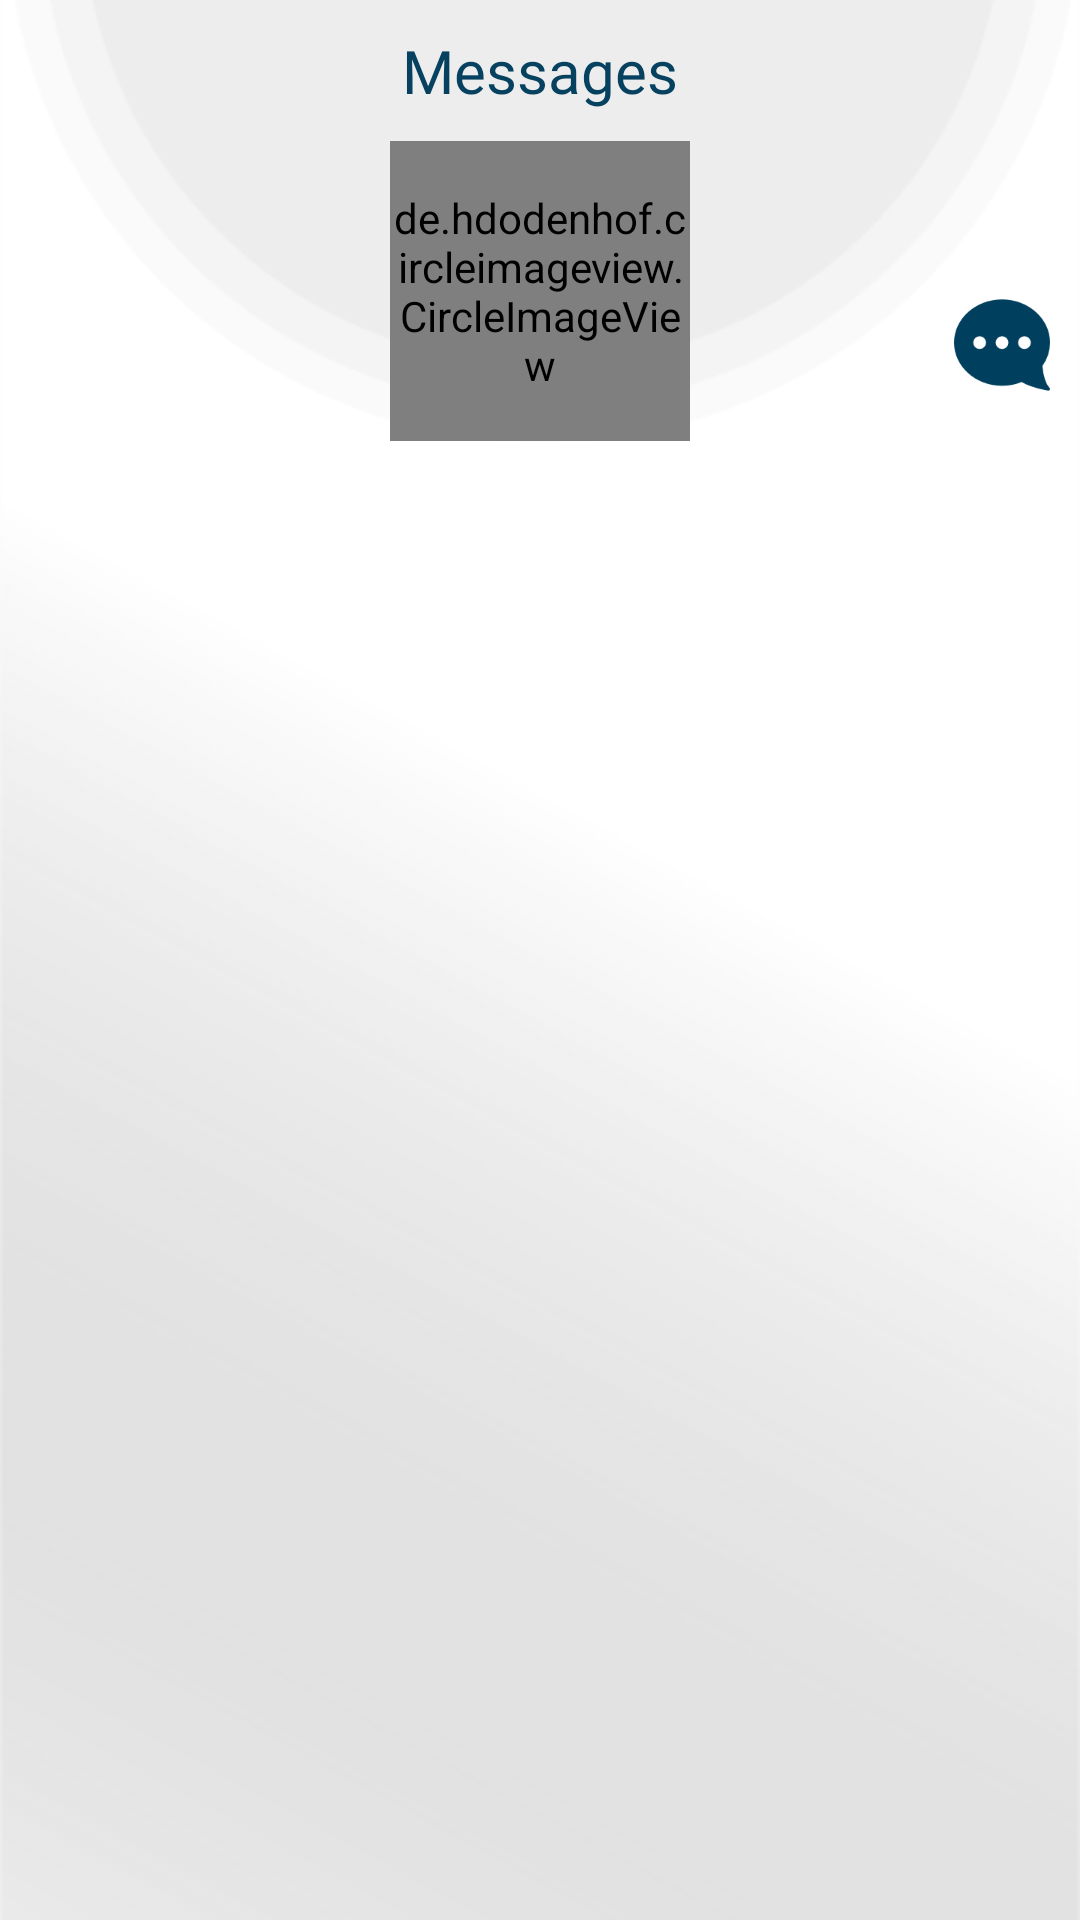

Point at icon controls on the screen. Image size 1080px×1920px, points as point (x, y).
msg unselect: point (1002, 345)
